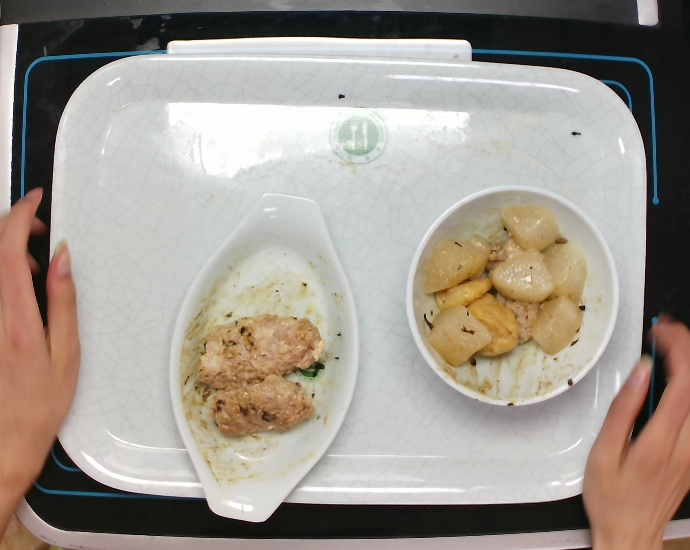JYsf-Fan_Wan: (395, 180, 632, 412)
JYsf-Yu_Pan: (170, 189, 362, 526)
